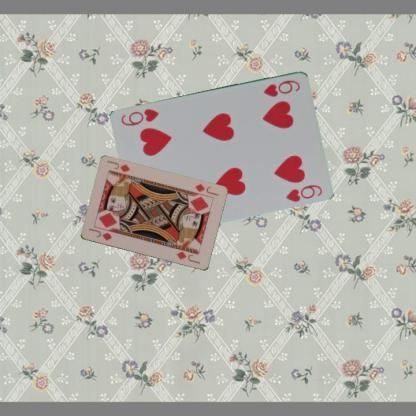6h: (261, 76, 302, 98)
Jd: (191, 182, 220, 198), (86, 225, 113, 242)
